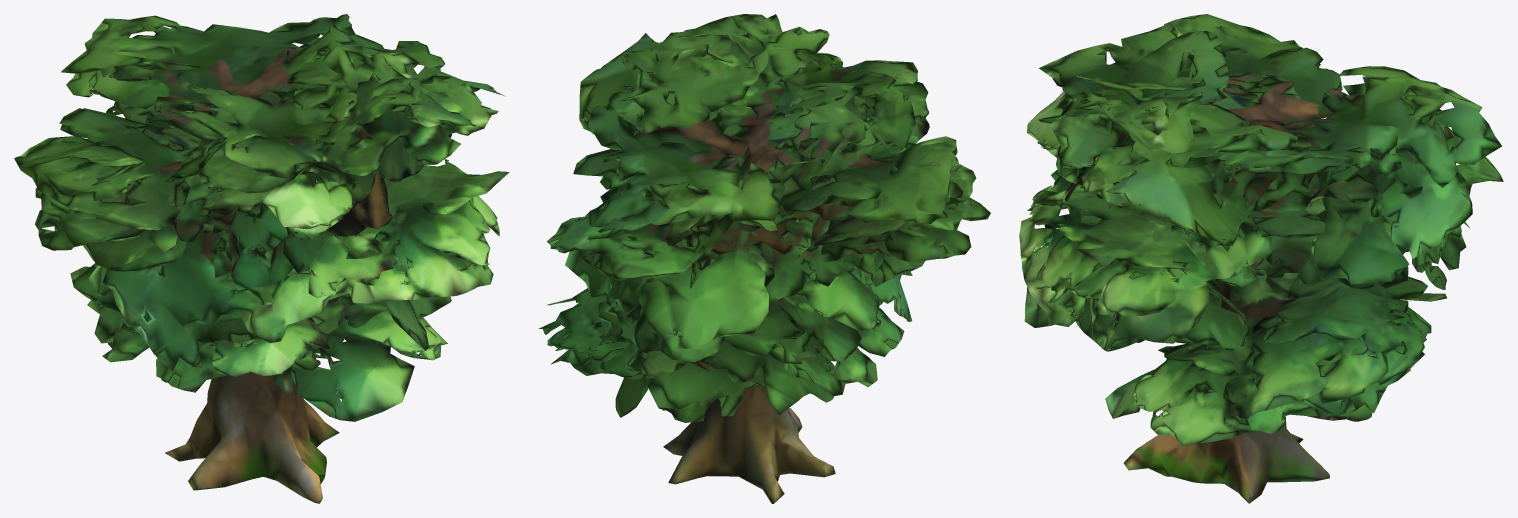
File: AI_UmbrellaJungleTree.fbx
3 views of the same model, side by side, from view 1: azimuth 30°, elevation 25°; view 2: azimuth 150°, elevation 25°; view 3: azimuth 270°, elevation 25° (orthographic). The views are drawn at different scales.
Parts seen in each view (by area): view 1: Mesh_0; view 2: Mesh_0; view 3: Mesh_0.
Boxes of the visible parts, x1,y1,x2,y2 form: Mesh_0: (14,14,509,503); Mesh_0: (538,14,990,503); Mesh_0: (1019,14,1503,503).
Bounding box in the file's own units: 191 × 179 × 193.
Materials: 1 (1 with a texture image).
